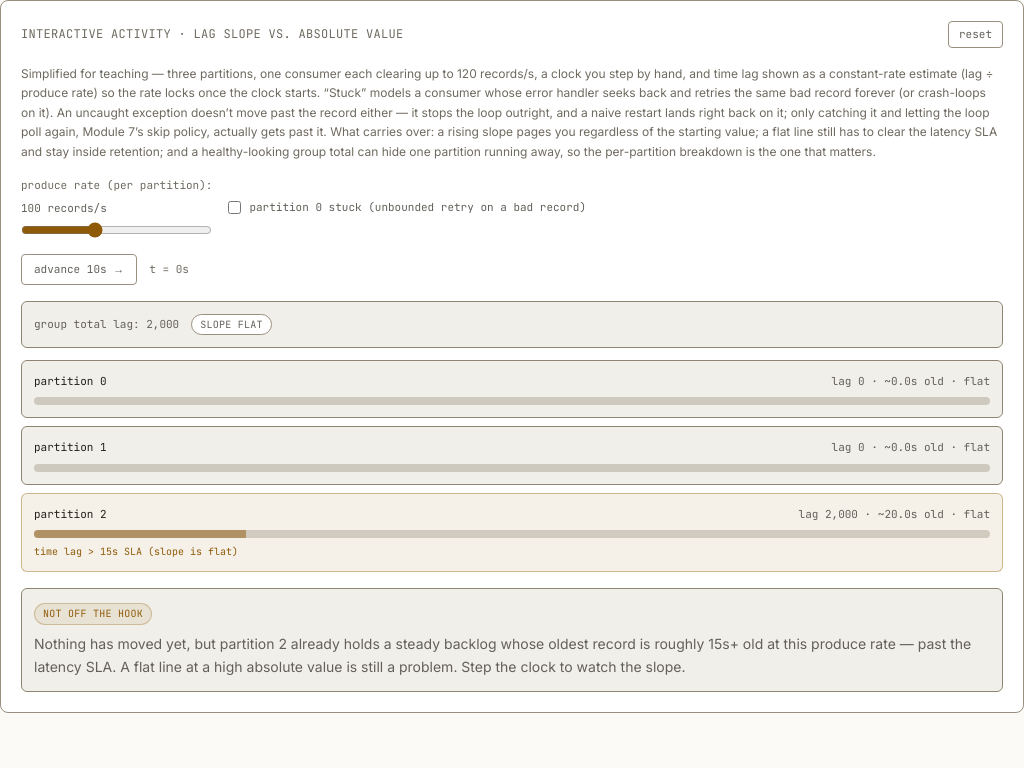
Test: LagSlopeVsAbsolute › a stuck partition runs away while the group total still looks like a gentle slope
Click the checkbox named "partition 0 stuck retrying a bad record" at (235, 208), box 228,201 -> 241,214
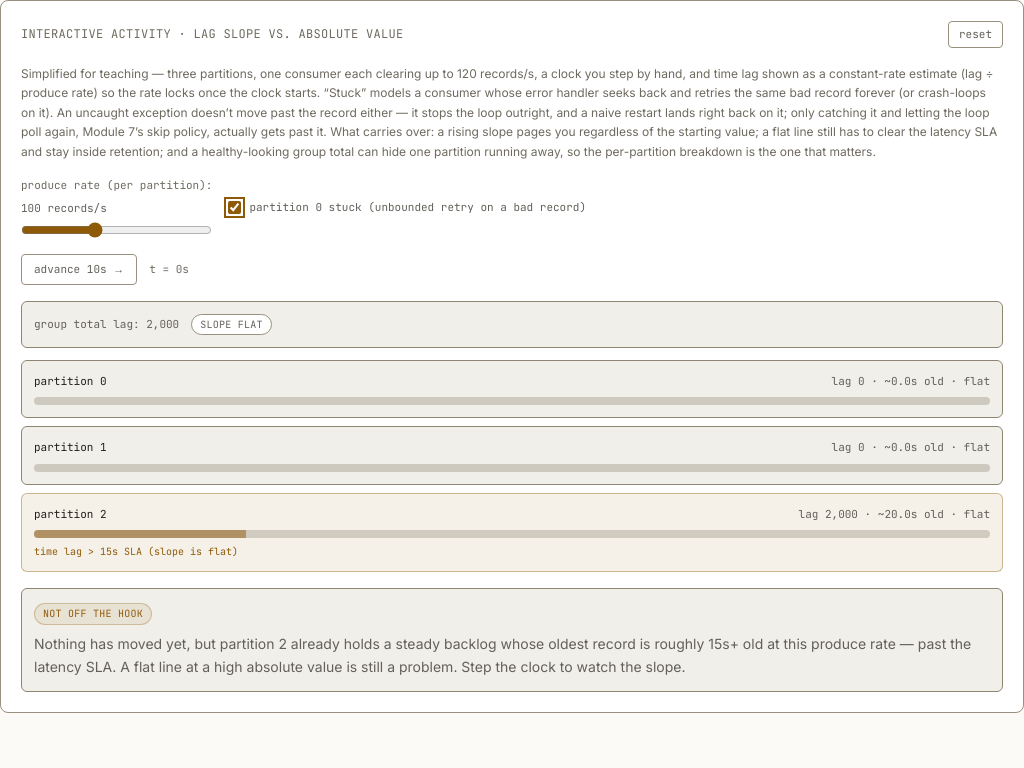
Click the button "advance 10s →" at (79, 269), box 21,254 -> 137,284
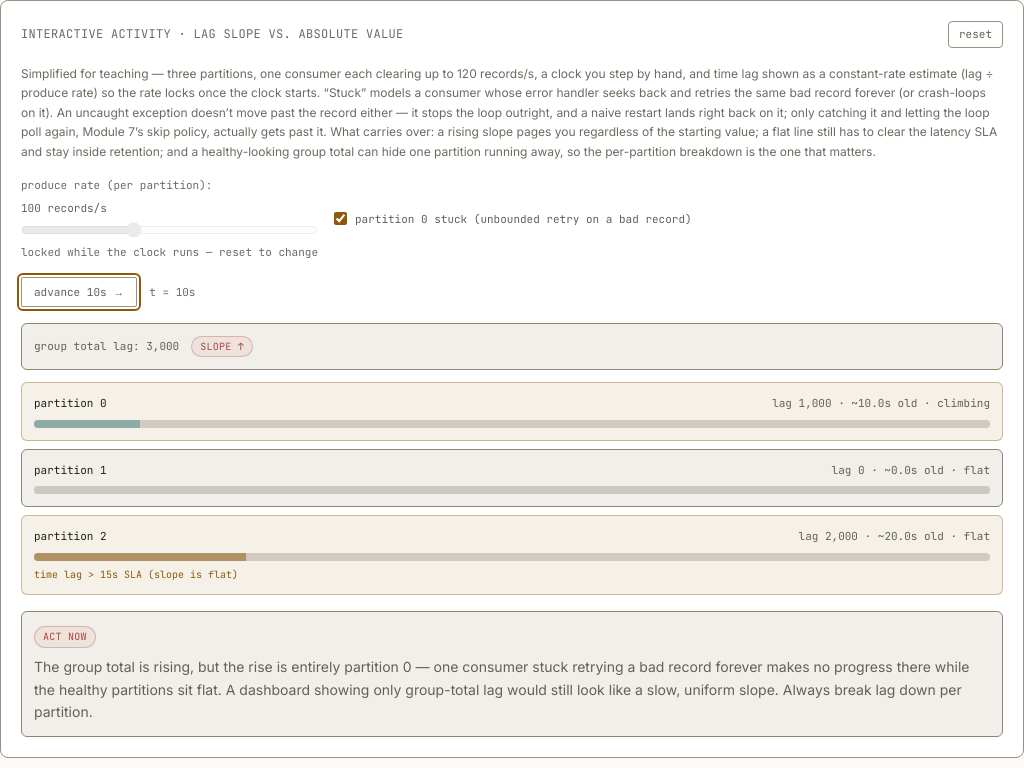
Expected: the text "lag 0 · ~0.0s old · flat" is shown, 832,462 -> 990,478
Expected: the text "lag 1,000 · ~10.0s old · climbing" is shown, 772,395 -> 990,412
Expected: the text with test id "lag-verdict" shows "the rise is entirely partition 0 — one consumer stuck retrying a bad record forever", 34,658 -> 970,720
